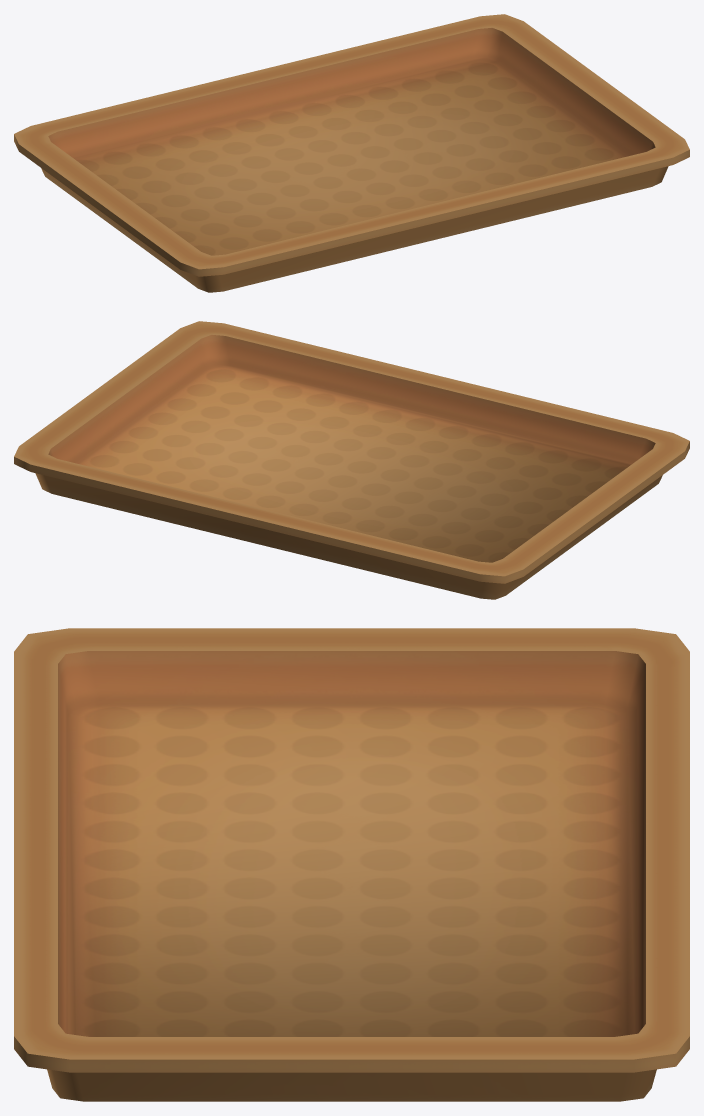
File: fff_tray.FBX
3 views of the same model, one above another, from view 1: azimuth 30°, elevation 25°; view 2: azimuth 150°, elevation 25°; view 3: azimuth 270°, elevation 25° (orthographic). The views are drawn at different scales.
Parts seen in each view (by area): view 1: fff_tray; view 2: fff_tray; view 3: fff_tray.
Part boxes in pixels (x1=…): fff_tray: x1=14, y1=14, x2=689, y2=292; fff_tray: x1=14, y1=321, x2=689, y2=599; fff_tray: x1=14, y1=628, x2=689, y2=1101.
Size of the model in its own units: 20.55 by 1.36 by 13.61.
